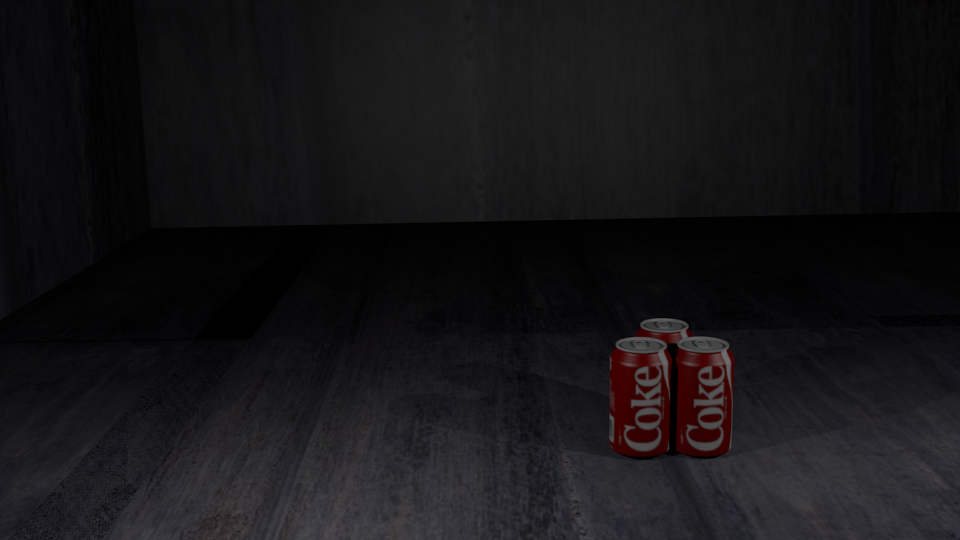cola_can: (671, 337, 733, 452), (610, 337, 671, 453), (635, 318, 692, 428)
